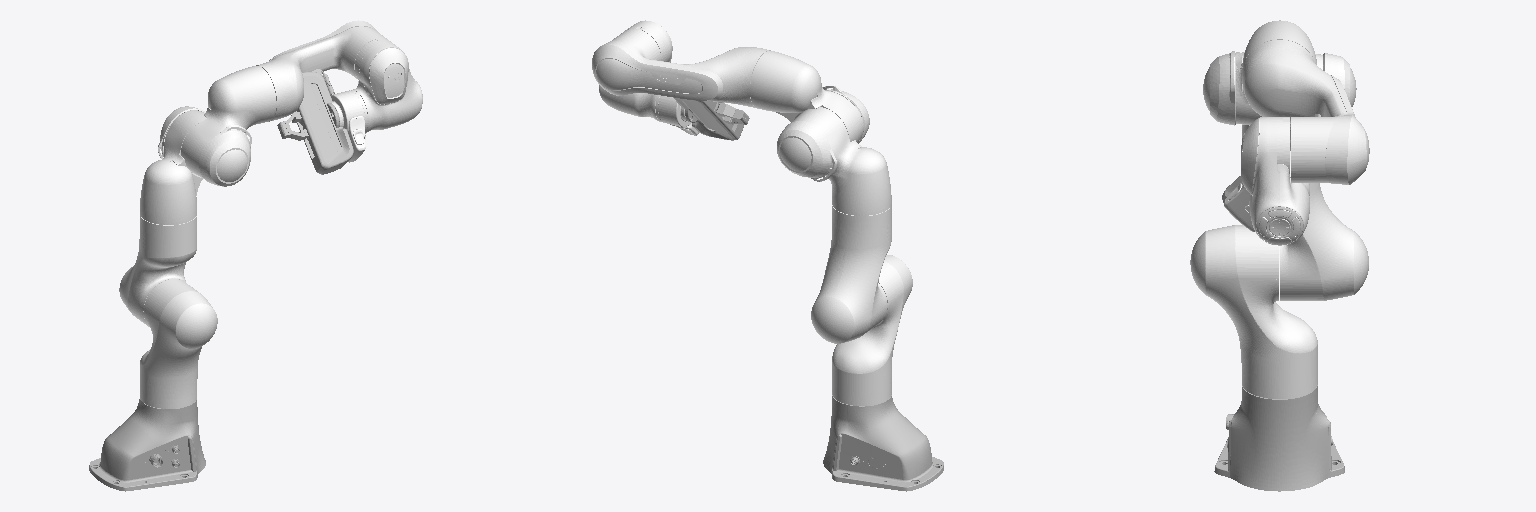
robot.urdf — panda:
<?xml version="1.0" ?>

<robot name="panda" xmlns:xacro="http://www.ros.org/wiki/xacro">
  
  <link name="panda_link0">
    <visual>
      <geometry>
        <mesh filename="package://model_description/meshes/visual/link0.stl"/>
      </geometry>
      <material name="panda_gray"/>
    </visual>
    <collision>
      <geometry>
        <mesh filename="package://model_description/meshes/collision/link0.stl"/>
      </geometry>
      <material name="panda_gray"/>
    </collision>
    <inertial>
      <origin xyz="0 0 0" rpy="0 0 0"/>
      <mass value="3.06"/>
      <inertia ixx="0.3" ixy="0.0" ixz="0.0" iyy="0.3" iyz="0.0" izz="0.3"/>
    </inertial>
  </link>
  
  <link name="panda_link1">
    <visual>
      <geometry>
        <mesh filename="package://model_description/meshes/visual/link1.stl"/>
      </geometry>
      <material name="panda_white"/>
    </visual>
    <collision>
      <geometry>
        <mesh filename="package://model_description/meshes/collision/link1.stl"/>
      </geometry>
      <material name="panda_white"/>
    </collision>
    <inertial>
      <origin xyz="0 0 0" rpy="0 0 0"/>
      <mass value="2.34"/>
      <inertia ixx="0.3" ixy="0.0" ixz="0.0" iyy="0.3" iyz="0.0" izz="0.3"/>
    </inertial>
  </link>
  
  <joint name="panda_joint1" type="revolute">
    <safety_controller k_position="100.0" k_velocity="40.0" soft_lower_limit="-2.8973" soft_upper_limit="2.8973"/>
    <origin rpy="0 0 0" xyz="0 0 0.333"/>
    <parent link="panda_link0"/>
    <child link="panda_link1"/>
    <axis xyz="0 0 1"/>
    <limit effort="87" lower="-2.8973" upper="2.8973" velocity="2.1750"/>
    <dynamics damping="0.5"/>
  </joint>
  
  <link name="panda_link2">
    <visual>
      <geometry>
        <mesh filename="package://model_description/meshes/visual/link2.stl"/>
      </geometry>
      <material name="panda_white"/>
    </visual>
    <collision>
      <geometry>
        <mesh filename="package://model_description/meshes/collision/link2.stl"/>
      </geometry>
      <material name="panda_white"/>
    </collision>
    <inertial>
      <origin xyz="0 0 0" rpy="0 0 0"/>
      <mass value="2.36"/>
      <inertia ixx="0.3" ixy="0.0" ixz="0.0" iyy="0.3" iyz="0.0" izz="0.3"/>
    </inertial>
  </link>
  
  <joint name="panda_joint2" type="revolute">
    <safety_controller k_position="100.0" k_velocity="40.0" soft_lower_limit="-1.7628" soft_upper_limit="1.7628"/>
    <origin rpy="-1.57079632679 0 0" xyz="0 0 0"/>
    <parent link="panda_link1"/>
    <child link="panda_link2"/>
    <axis xyz="0 0 1"/>
    <limit effort="87" lower="-1.7628" upper="1.7628" velocity="2.1750"/>
    <dynamics damping="0.5"/>
  </joint>
  
  <link name="panda_link3">
    <visual>
      <geometry>
        <mesh filename="package://model_description/meshes/visual/link3.stl"/>
      </geometry>
      <material name="panda_white"/>
    </visual>
    <collision>
      <geometry>
        <mesh filename="package://model_description/meshes/collision/link3.stl"/>
      </geometry>
      <material name="panda_white"/>
    </collision>
    <inertial>
      <origin xyz="0 0 0" rpy="0 0 0"/>
      <mass value="2.38"/>
      <inertia ixx="0.3" ixy="0.0" ixz="0.0" iyy="0.3" iyz="0.0" izz="0.3"/>
    </inertial>
  </link>
  
  <joint name="panda_joint3" type="revolute">
    <safety_controller k_position="100.0" k_velocity="40.0" soft_lower_limit="-2.8973" soft_upper_limit="2.8973"/>
    <origin rpy="1.57079632679 0 0" xyz="0 -0.316 0"/>
    <parent link="panda_link2"/>
    <child link="panda_link3"/>
    <axis xyz="0 0 1"/>
    <limit effort="87" lower="-2.8973" upper="2.8973" velocity="2.1750"/>
    <dynamics damping="0.5"/>
  </joint>
  
  <link name="panda_link4">
    <visual>
      <geometry>
        <mesh filename="package://model_description/meshes/visual/link4.stl"/>
      </geometry>
      <material name="panda_white"/>
    </visual>
    <collision>
      <geometry>
        <mesh filename="package://model_description/meshes/collision/link4.stl"/>
      </geometry>
      <material name="panda_white"/>
    </collision>
    <inertial>
      <origin xyz="0 0 0" rpy="0 0 0"/>
      <mass value="2.43"/>
      <inertia ixx="0.3" ixy="0.0" ixz="0.0" iyy="0.3" iyz="0.0" izz="0.3"/>
    </inertial>
  </link>
  
  <joint name="panda_joint4" type="revolute">
    <safety_controller k_position="100.0" k_velocity="40.0" soft_lower_limit="-3.0718" soft_upper_limit="-0.0698"/>
    <origin rpy="1.57079632679 0 0" xyz="0.0825 0 0"/>
    <parent link="panda_link3"/>
    <child link="panda_link4"/>
    <axis xyz="0 0 1"/>
    <limit effort="87" lower="-3.0718" upper="-0.0698" velocity="2.1750"/>
    <dynamics damping="0.5"/>
  </joint>
  
  <link name="panda_link5">
    <visual>
      <geometry>
        <mesh filename="package://model_description/meshes/visual/link5.stl"/>
      </geometry>
      <material name="panda_white"/>
    </visual>
    <collision>
      <geometry>
        <mesh filename="package://model_description/meshes/collision/link5.stl"/>
      </geometry>
      <material name="panda_white"/>
    </collision>
    <inertial>
      <origin xyz="0 0 0" rpy="0 0 0"/>
      <mass value="3.5"/>
      <inertia ixx="0.3" ixy="0.0" ixz="0.0" iyy="0.3" iyz="0.0" izz="0.3"/>
    </inertial>
  </link>
  
  <joint name="panda_joint5" type="revolute">
    <safety_controller k_position="100.0" k_velocity="40.0" soft_lower_limit="-2.8973" soft_upper_limit="2.8973"/>
    <origin rpy="-1.57079632679 0 0" xyz="-0.0825 0.384 0"/>
    <parent link="panda_link4"/>
    <child link="panda_link5"/>
    <axis xyz="0 0 1"/>
    <limit effort="12" lower="-2.8973" upper="2.8973" velocity="2.6100"/>
    <dynamics damping="0.5"/>
  </joint>
  
  <link name="panda_link6">
    <visual>
      <geometry>
        <mesh filename="package://model_description/meshes/visual/link6.stl"/>
      </geometry>
      <material name="panda_white"/>
    </visual>
    <collision>
      <geometry>
        <mesh filename="package://model_description/meshes/collision/link6.stl"/>
      </geometry>
      <material name="panda_white"/>
    </collision>
    <inertial>
      <origin xyz="0 0 0" rpy="0 0 0"/>
      <mass value="1.47"/>
      <inertia ixx="0.3" ixy="0.0" ixz="0.0" iyy="0.3" iyz="0.0" izz="0.3"/>
    </inertial>
  </link>
  
  <joint name="panda_joint6" type="revolute">
    <safety_controller k_position="100.0" k_velocity="40.0" soft_lower_limit="-0.0175" soft_upper_limit="3.7525"/>
    <origin rpy="1.57079632679 0 0" xyz="0 0 0"/>
    <parent link="panda_link5"/>
    <child link="panda_link6"/>
    <axis xyz="0 0 1"/>
    <limit effort="12" lower="-0.0175" upper="3.752" velocity="2.6100"/>
    <dynamics damping="0.5"/>
  </joint>
  
  <link name="panda_link7">
    <visual>
      <geometry>
        <mesh filename="package://model_description/meshes/visual/link7.stl"/>
      </geometry>
      <material name="panda_white"/>
    </visual>
    <collision>
      <geometry>
        <mesh filename="package://model_description/meshes/collision/link7.stl"/>
      </geometry>
      <material name="panda_white"/>
    </collision>
    <inertial>
      <origin xyz="0 0 0" rpy="0 0 0"/>
      <mass value="0.45"/>
      <inertia ixx="0.3" ixy="0.0" ixz="0.0" iyy="0.3" iyz="0.0" izz="0.3"/>
    </inertial>
  </link>
  
  <joint name="panda_joint7" type="revolute">
    <safety_controller k_position="100.0" k_velocity="40.0" soft_lower_limit="-2.8973" soft_upper_limit="2.8973"/>
    <origin rpy="1.57079632679 0 0" xyz="0.088 0 0"/>
    <parent link="panda_link6"/>
    <child link="panda_link7"/>
    <axis xyz="0 0 1"/>
    <limit effort="12" lower="-2.8973" upper="2.8973" velocity="2.6100"/>
    <dynamics damping="0.5"/>
  </joint>
  
  <joint name="panda_hand_joint" type="fixed">
    <parent link="panda_link7"/>
    <child link="panda_hand"/>
    <origin rpy="0 0 -0.785398163397" xyz="0 0 0.107"/>
  </joint>
  
  <link name="panda_hand">
    <visual>
      <geometry>
        <mesh filename="package://model_description/meshes/visual/hand.stl"/>
      </geometry>
      <material name="panda_gray"/>
    </visual>
    <collision>
      <geometry>
        <mesh filename="package://model_description/meshes/collision/hand.stl"/>
      </geometry>
      <material name="panda_gray"/>
    </collision>
    <inertial>
      <origin xyz="0 0 0" rpy="0 0 0"/>
      <mass value="0.68"/>
      <inertia ixx="0.1" ixy="0.0" ixz="0.0" iyy="0.1" iyz="0.0" izz="0.1"/>
    </inertial>
  </link>
  
  <link name="panda_leftfinger">
    <visual>
      <geometry>
        <mesh filename="package://model_description/meshes/visual/finger.stl"/>
      </geometry>
      <material name="panda_gray"/>
    </visual>
    <collision>
      <geometry>
        <mesh filename="package://model_description/meshes/collision/finger.stl"/>
      </geometry>
      <material name="panda_gray"/>
    </collision>
    <inertial>
      <origin xyz="0 0 0" rpy="0 0 0"/>
      <mass value="0.01"/>
      <inertia ixx="0.1" ixy="0.0" ixz="0.0" iyy="0.1" iyz="0.0" izz="0.1"/>
    </inertial>
  </link>
  
  <link name="panda_rightfinger">
    <visual>
      <origin rpy="0 0 3.14159265359" xyz="0 0 0"/>
      <geometry>
        <mesh filename="package://model_description/meshes/visual/finger.stl"/>
      </geometry>
      <material name="panda_gray"/>
    </visual>
    <collision>
      <origin rpy="0 0 3.14159265359" xyz="0 0 0"/>
      <geometry>
        <mesh filename="package://model_description/meshes/collision/finger.stl"/>
      </geometry>
      <material name="panda_gray"/>
    </collision>
    <inertial>
      <origin xyz="0 0 0" rpy="0 0 0"/>
      <mass value="0.01"/>
      <inertia ixx="0.1" ixy="0.0" ixz="0.0" iyy="0.1" iyz="0.0" izz="0.1"/>
    </inertial>
  </link>
  
  <joint name="panda_finger_joint1" type="prismatic">
    <parent link="panda_hand"/>
    <child link="panda_leftfinger"/>
    <origin rpy="0 0 0" xyz="0 0 0.0584"/>
    <axis xyz="0 1 0"/>
    <limit effort="20" lower="0.0" upper="0.04" velocity="0.2"/>
  </joint>
  
  <joint name="panda_finger_joint2" type="prismatic">
    <parent link="panda_hand"/>
    <child link="panda_rightfinger"/>
    <origin rpy="0 0 0" xyz="0 0 0.0584"/>
    <axis xyz="0 -1 0"/>
    <limit effort="20" lower="0.0" upper="0.04" velocity="0.2"/>
    <mimic joint="panda_finger_joint1"/>
  </joint>
  
  
  <material name="panda_white">
    <color rgba="1. 1. 1. 1."/>
  </material>
  <material name="panda_gray">
    <color rgba=".8 .8 .8 1."/>
  </material>
</robot>

--- What the picture shows (computed from the rendered views, not written in the file) ---
The picture shows the robot from 3 angles, left to right: view 1: azimuth 30°, elevation 25°; view 2: azimuth 150°, elevation 25°; view 3: azimuth 270°, elevation 25°; orthographic projection.
Model panda with 11 links and 10 joints (7 revolute, 2 prismatic, 1 fixed), rooted at panda_link0, posed joints at zero except 1 at the middle of their limits (panda_joint4 = -1.57).
Links seen in each view (by area): view 1: panda_link0, panda_link1, panda_link4, panda_link3, panda_link5, panda_link6, panda_link2, panda_hand, panda_link7; view 2: panda_link0, panda_link5, panda_link2, panda_link3, panda_link1, panda_link4, panda_link6, panda_hand, panda_link7; view 3: panda_link1, panda_link5, panda_link0, panda_link2, panda_link6, panda_link4, panda_link3, panda_link7.
Link boxes in pixels (x1,y1,x2,y2): panda_link0: (89,399,205,491); panda_link1: (140,279,217,408); panda_link4: (181,66,276,186); panda_link3: (140,106,206,224); panda_link5: (256,20,387,121); panda_link6: (353,39,422,133); panda_link2: (119,216,196,326); panda_hand: (294,69,353,174); panda_link7: (330,90,367,162); panda_link0: (823,395,943,491); panda_link5: (592,29,770,107); panda_link2: (811,205,891,343); panda_link3: (777,107,891,215); panda_link1: (832,255,912,405); panda_link4: (750,51,869,143); panda_link6: (599,20,672,121); panda_hand: (673,97,743,140); panda_link7: (655,95,698,135); panda_link1: (1190,225,1317,398); panda_link5: (1242,40,1369,184); panda_link0: (1214,385,1344,491); panda_link2: (1280,183,1368,300); panda_link6: (1241,117,1309,245); panda_link4: (1203,20,1316,125); panda_link3: (1242,53,1356,137); panda_link7: (1224,151,1309,231).
Size in the robot's own frame: 0.7022 by 0.2593 by 0.7865 metres.
11 mesh visuals loaded from 10 distinct referenced files (10 binary STL).